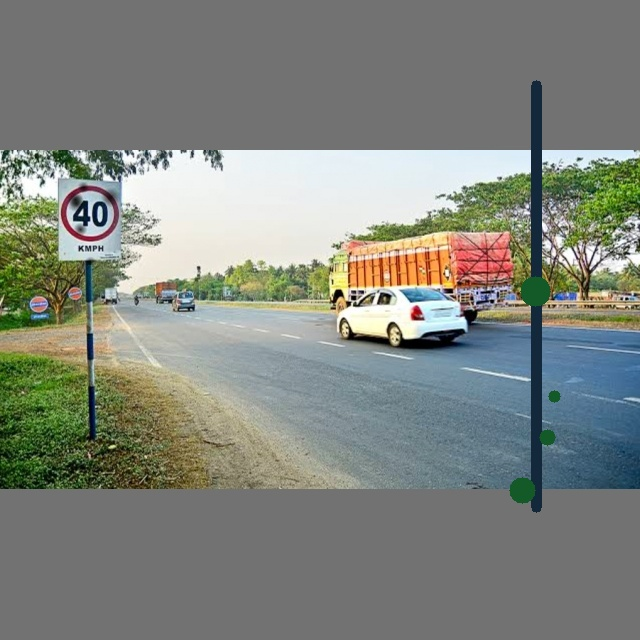Speed_Limit_40: (59, 176, 124, 265)
